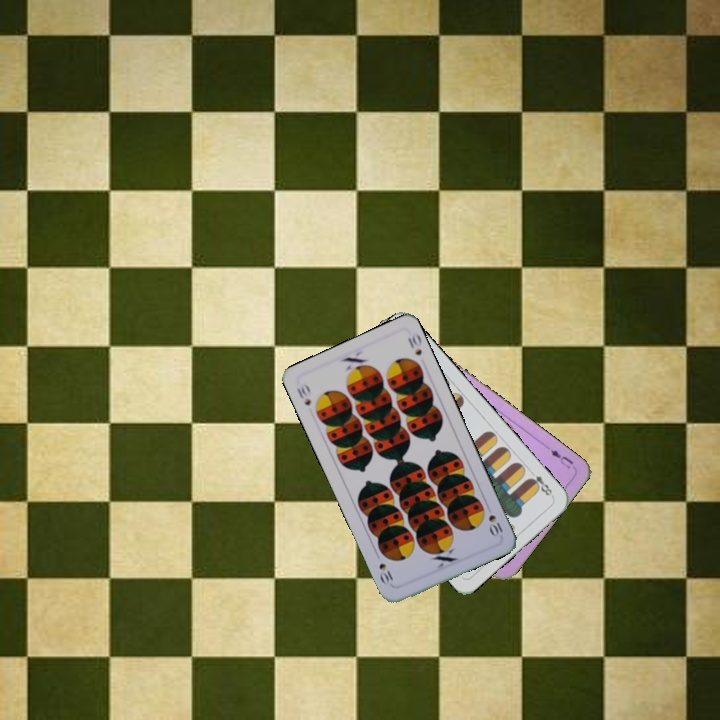E8: (524, 471, 556, 500)
EU: (546, 445, 576, 471)
S10: (482, 500, 506, 540), (293, 379, 314, 408)
